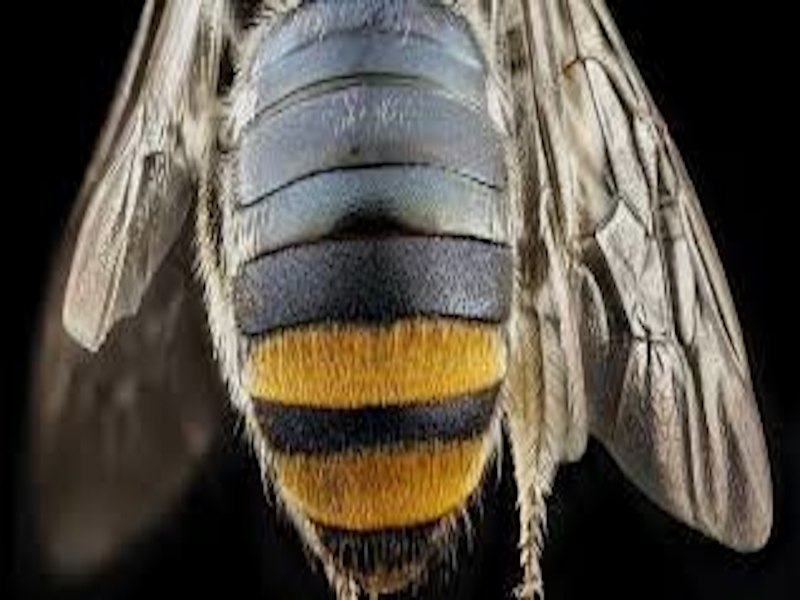abeja: (83, 1, 671, 591)
